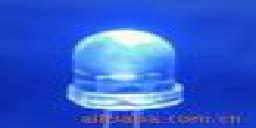LED: (64, 27, 190, 111)
